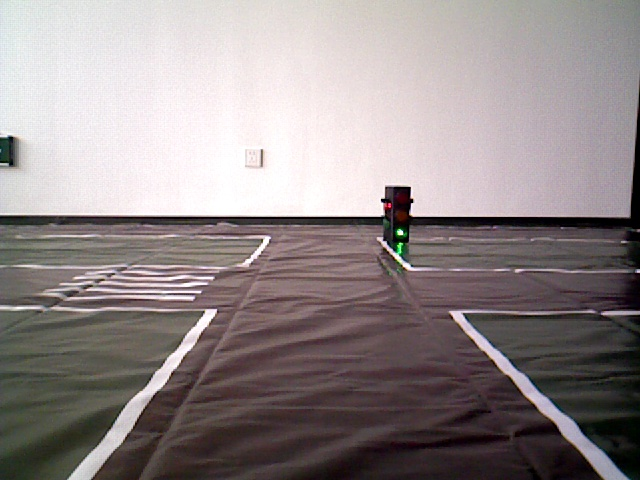green: (385, 189, 411, 241)
